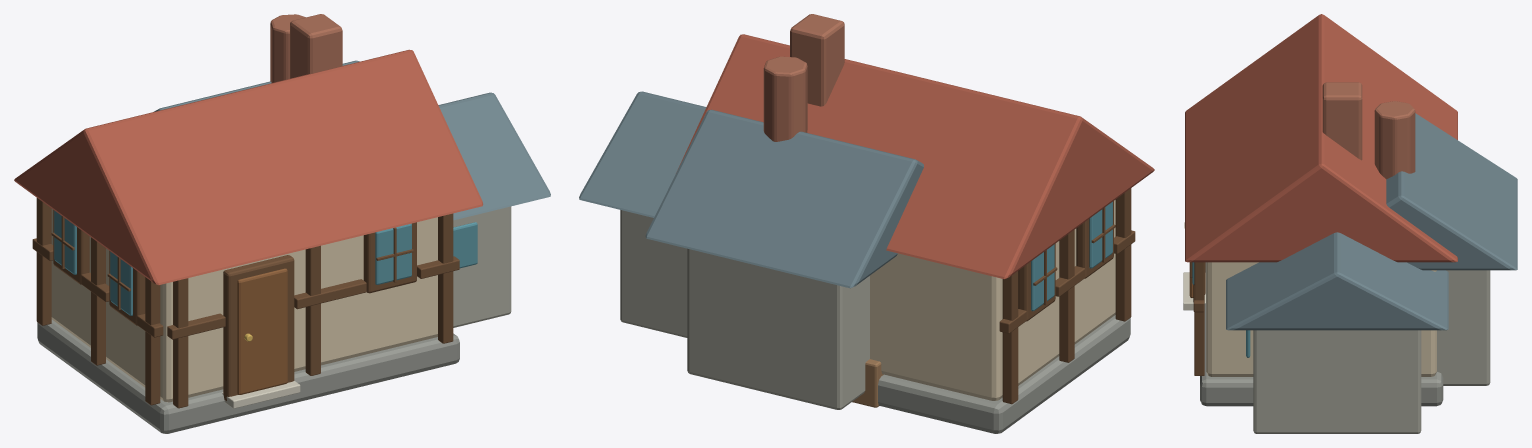
Rendered from temperate-cottage-5.glb.
The picture shows the model from 3 angles, left to right: view 1: azimuth 30°, elevation 25°; view 2: azimuth 150°, elevation 25°; view 3: azimuth 270°, elevation 25°; orthographic projection. The views are drawn at different scales.
Parts seen in each view (by area): view 1: Clay tiles, Ivory plaster, Dark beams, Foundation stone, Blue slate, Door oak, Fieldstone, Blue glass, Chimney brick, Cut limestone; view 2: Clay tiles, Blue slate, Fieldstone, Ivory plaster, Dark beams, Foundation stone, Chimney brick, Blue glass, Aged oak; view 3: Clay tiles, Blue slate, Fieldstone, Chimney brick, Ivory plaster, Foundation stone, Dark beams, Cut limestone.
Boxes of the visible parts, x1,y1,x2,y2 form: Clay tiles: (14, 49, 483, 285); Ivory plaster: (51, 209, 437, 402); Dark beams: (32, 198, 459, 408); Foundation stone: (37, 319, 459, 433); Blue slate: (154, 60, 550, 220); Door oak: (237, 268, 287, 394); Fieldstone: (453, 206, 511, 327); Blue glass: (54, 210, 477, 315); Chimney brick: (270, 14, 342, 82); Cut limestone: (222, 381, 300, 408); Clay tiles: (677, 34, 1154, 279); Blue slate: (579, 91, 923, 288); Fieldstone: (620, 210, 869, 409); Ivory plaster: (870, 200, 1115, 400); Dark beams: (999, 188, 1135, 404); Foundation stone: (878, 315, 1130, 433); Chimney brick: (763, 14, 844, 141); Blue glass: (1031, 201, 1112, 311); Aged oak: (852, 359, 883, 407); Clay tiles: (1185, 14, 1457, 262); Blue slate: (1226, 113, 1517, 330); Fieldstone: (1253, 270, 1490, 433); Chimney brick: (1322, 82, 1415, 179); Ivory plaster: (1206, 262, 1436, 376); Foundation stone: (1200, 262, 1443, 406); Dark beams: (1190, 262, 1205, 375); Cut limestone: (1183, 272, 1205, 310).
Bounding box in the file's own units: 4.38 × 3.02 × 3.19.
